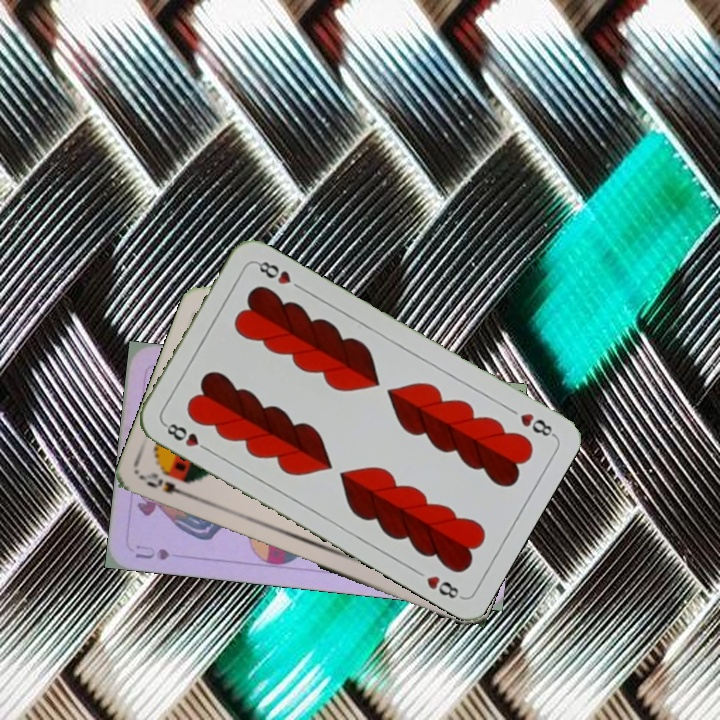H8: (159, 419, 213, 455), (516, 409, 557, 439)
SO: (139, 468, 196, 501)
SU: (131, 540, 172, 563)
